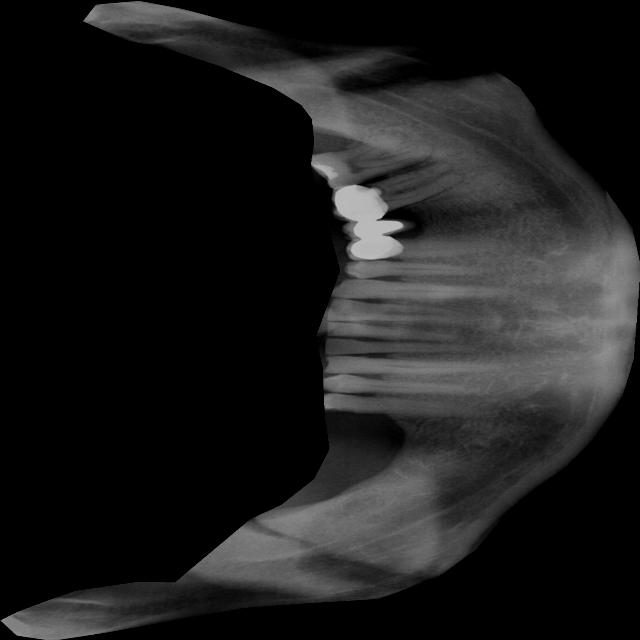mandibula: (0, 0, 640, 640)
